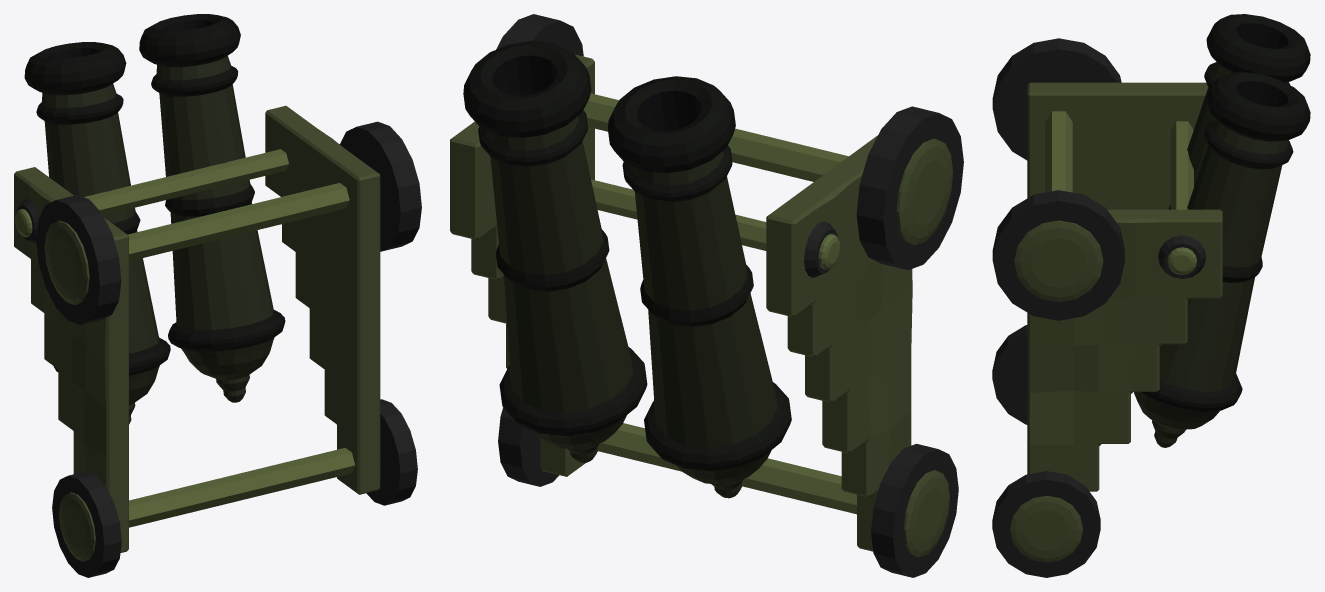
The model's file is Cannon15.fbx.
3 renders of one model, left to right at view 1: azimuth 30°, elevation 25°; view 2: azimuth 150°, elevation 25°; view 3: azimuth 270°, elevation 25°, orthographic. The views are drawn at different scales.
Visible parts, largest first — view 1: Cannon15Barrel, Cannon15LSide, Cannon15Barrel.001, Cannon15RSide, Cannon15RFrontWheel, Cannon15BackWheelHolder, Cannon15FrontWheelHolder, Cannon15RBackWheel, Cannon15LFrontWheel, Cannon15CannonBarrelHolder, Cannon15LBackWheel, Cannon15RSideHolder; view 2: Cannon15Barrel, Cannon15Barrel.001, Cannon15RSide, Cannon15RFrontWheel, Cannon15RBackWheel, Cannon15LSide, Cannon15BackWheelHolder, Cannon15FrontWheelHolder, Cannon15LBackWheel, Cannon15CannonBarrelHolder, Cannon15LFrontWheel, Cannon15RSideHolder; view 3: Cannon15LSide, Cannon15Barrel, Cannon15RSide, Cannon15LFrontWheel, Cannon15LBackWheel, Cannon15Barrel.001, Cannon15RFrontWheel, Cannon15RBackWheel, Cannon15FrontWheelHolder, Cannon15CannonBarrelHolder, Cannon15LSideHolder.
Part boxes in pixels (bbox=[...]): Cannon15Barrel: bbox=[139, 14, 285, 402]; Cannon15LSide: bbox=[265, 105, 380, 494]; Cannon15Barrel.001: bbox=[24, 42, 170, 424]; Cannon15RSide: bbox=[14, 167, 128, 552]; Cannon15RFrontWheel: bbox=[36, 195, 121, 324]; Cannon15BackWheelHolder: bbox=[129, 447, 355, 527]; Cannon15FrontWheelHolder: bbox=[128, 183, 349, 261]; Cannon15RBackWheel: bbox=[52, 471, 121, 577]; Cannon15LFrontWheel: bbox=[339, 121, 421, 251]; Cannon15CannonBarrelHolder: bbox=[84, 149, 288, 215]; Cannon15LBackWheel: bbox=[366, 399, 417, 505]; Cannon15RSideHolder: bbox=[15, 198, 39, 243]; Cannon15Barrel: bbox=[463, 41, 647, 462]; Cannon15Barrel.001: bbox=[608, 76, 791, 498]; Cannon15RSide: bbox=[766, 135, 912, 551]; Cannon15RFrontWheel: bbox=[856, 106, 963, 270]; Cannon15RBackWheel: bbox=[871, 443, 958, 577]; Cannon15LSide: bbox=[450, 54, 594, 476]; Cannon15BackWheelHolder: bbox=[597, 423, 856, 514]; Cannon15FrontWheelHolder: bbox=[583, 93, 848, 181]; Cannon15LBackWheel: bbox=[498, 407, 559, 486]; Cannon15CannonBarrelHolder: bbox=[591, 179, 766, 250]; Cannon15LFrontWheel: bbox=[496, 14, 583, 56]; Cannon15RSideHolder: bbox=[804, 221, 840, 277]; Cannon15LSide: bbox=[1027, 209, 1222, 491]; Cannon15Barrel: bbox=[1134, 72, 1310, 447]; Cannon15RSide: bbox=[1027, 82, 1208, 209]; Cannon15LFrontWheel: bbox=[992, 190, 1124, 320]; Cannon15LBackWheel: bbox=[992, 471, 1100, 577]; Cannon15Barrel.001: bbox=[1168, 14, 1310, 209]; Cannon15RFrontWheel: bbox=[992, 38, 1121, 160]; Cannon15RBackWheel: bbox=[992, 325, 1027, 424]; Cannon15FrontWheelHolder: bbox=[1045, 111, 1072, 192]; Cannon15CannonBarrelHolder: bbox=[1170, 121, 1193, 209]; Cannon15LSideHolder: bbox=[1158, 235, 1206, 278].
Bounding box in the file's own units: 1.47 × 1.83 × 1.19.
